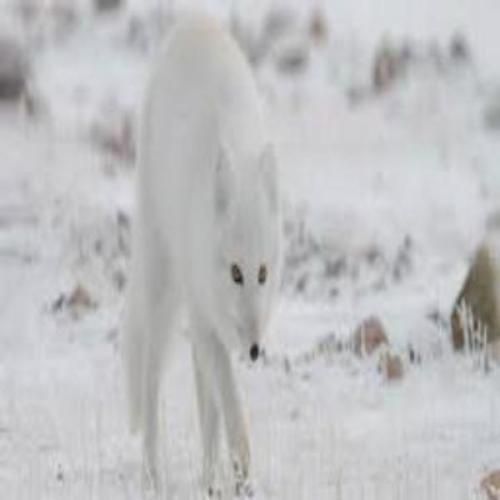arctic_fox-endangered: (123, 13, 285, 500)
